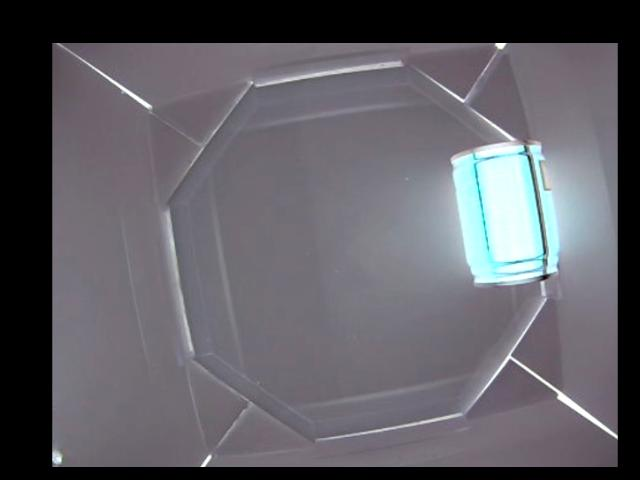Bottle: (450, 141, 558, 289)
